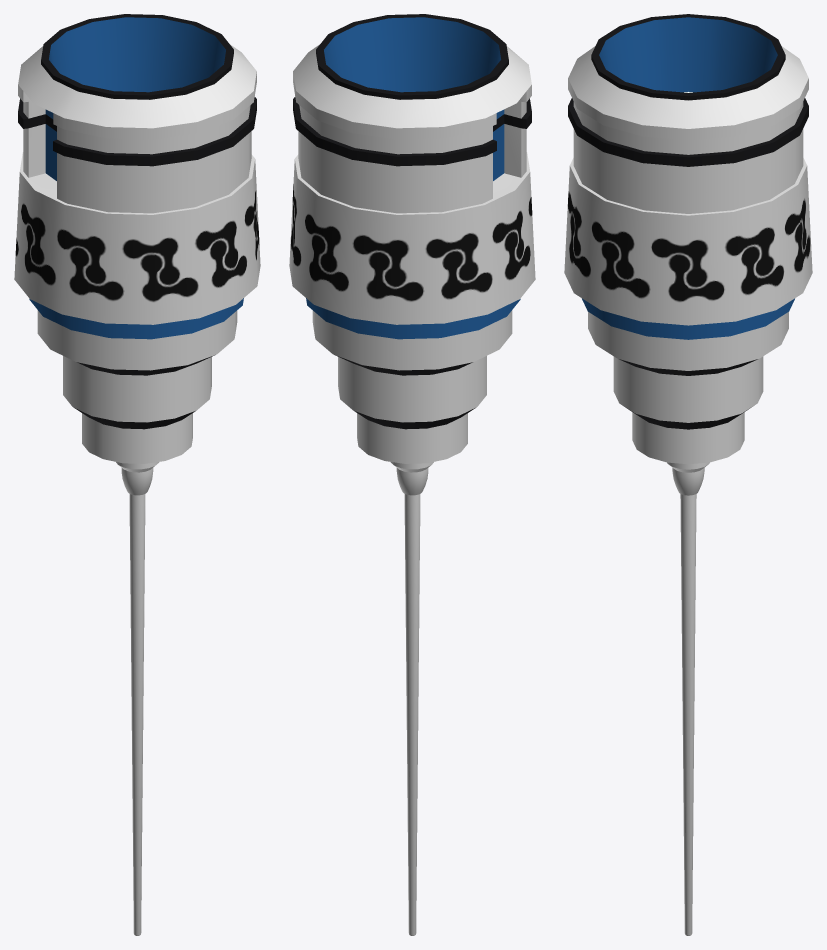
The model's file is ground_sensor.fbx.
3 views of the same model, side by side, from view 1: azimuth 30°, elevation 25°; view 2: azimuth 150°, elevation 25°; view 3: azimuth 270°, elevation 25° (orthographic).
Parts seen in each view (by area): view 1: Ground_Sensor; view 2: Ground_Sensor; view 3: Ground_Sensor.
Boxes of the visible parts, x1,y1,x2,y2 form: Ground_Sensor: [14, 14, 260, 935]; Ground_Sensor: [289, 14, 535, 935]; Ground_Sensor: [564, 14, 812, 935].
Size of the model in its own units: 17.92 by 70.08 by 17.92.
